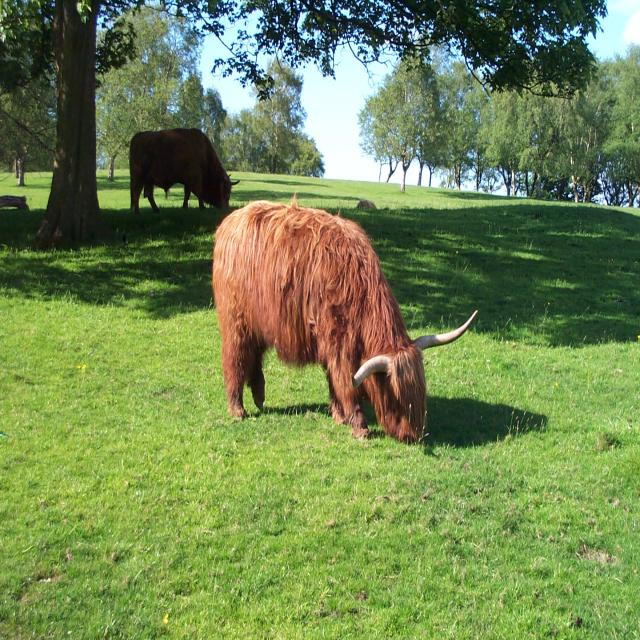cow: (212, 198, 476, 443), (130, 128, 236, 213)
